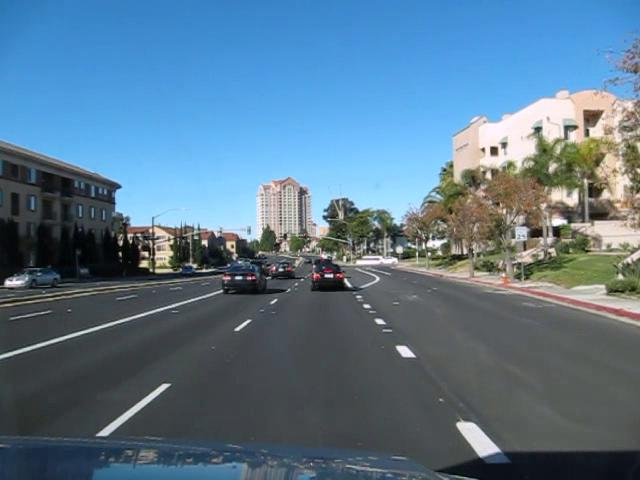speedLimit25: (515, 225, 527, 240)
